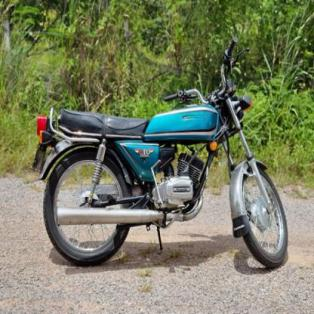Motocicleta: (29, 35, 294, 276)
